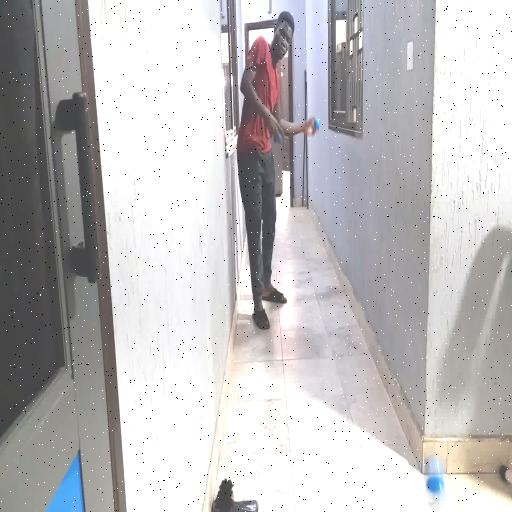plastic-ball: (422, 456, 446, 512)
